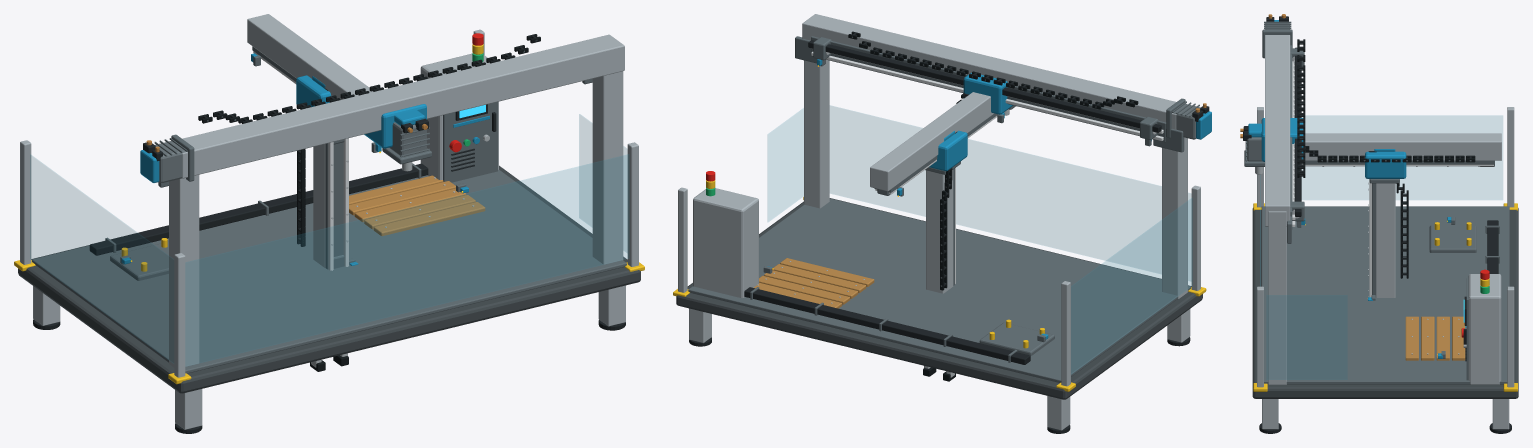
The model's file is palletizer-3axis-v2.glb.
3 renders of one model, left to right at view 1: azimuth 30°, elevation 25°; view 2: azimuth 150°, elevation 25°; view 3: azimuth 270°, elevation 25°, orthographic. The views are drawn at different scales.
Parts seen in each view (by area): view 1: Machine_Bed, Rear_Safety_Guard, X_Beam_Body, Left_Safety_Guard, Machine_Base, Column_5.0_Body, Column_-5.0_Body, Y_Beam_Body, Cable_Tray, Cabinet_Door, Z_Rail_Mounting_Face, Right_Safety_Guard (+20 smaller); view 2: Machine_Bed, Rear_Safety_Guard, Left_Safety_Guard, Machine_Base, X_Beam_Body, Cabinet, Y_Beam_Body, Column_-5.0_Body, Column_5.0_Body, Right_Safety_Guard, Cable_Tray, X_BallScrew_Cover (+18 smaller); view 3: Machine_Bed, Left_Safety_Guard, Right_Safety_Guard, Machine_Base, X_Beam_Body, Y_Beam_Body, Cabinet, Column_5.0_Body, Z_Mast_Body, Pick_Fixture, Y_CarriagePlate, Safety_Post_Body.002 (+21 smaller).
Part boxes in pixels (<box>): Machine_Bed: <box>32,169,626,373</box>; Rear_Safety_Guard: <box>185,154,629,366</box>; X_Beam_Body: <box>182,34,624,178</box>; Left_Safety_Guard: <box>30,155,173,363</box>; Machine_Base: <box>18,165,640,393</box>; Column_5.0_Body: <box>592,71,623,264</box>; Column_-5.0_Body: <box>169,175,199,367</box>; Y_Beam_Body: <box>247,14,373,99</box>; Cable_Tray: <box>89,163,428,255</box>; Cabinet_Door: <box>443,102,497,182</box>; Z_Rail_Mounting_Face: <box>325,142,343,269</box>; Right_Safety_Guard: <box>579,114,627,252</box>; Machine_Bed: <box>688,198,1190,382</box>; Rear_Safety_Guard: <box>830,105,1191,280</box>; Left_Safety_Guard: <box>1071,198,1192,374</box>; Machine_Base: <box>676,198,1202,399</box>; X_Beam_Body: <box>802,14,1176,129</box>; Cabinet: <box>693,188,758,298</box>; Y_Beam_Body: <box>870,92,994,191</box>; Column_-5.0_Body: <box>1162,137,1187,298</box>; Column_5.0_Body: <box>804,59,829,208</box>; Right_Safety_Guard: <box>767,108,803,221</box>; Cable_Tray: <box>744,287,1030,364</box>; X_BallScrew_Cover: <box>808,40,1161,132</box>; Machine_Bed: <box>1261,206,1509,384</box>; Left_Safety_Guard: <box>1302,115,1502,199</box>; Right_Safety_Guard: <box>1266,295,1347,379</box>; Machine_Base: <box>1252,208,1518,398</box>; X_Beam_Body: <box>1265,35,1290,226</box>; Y_Beam_Body: <box>1305,133,1501,160</box>; Cabinet: <box>1468,274,1501,384</box>; Column_5.0_Body: <box>1268,211,1286,384</box>; Z_Mast_Body: <box>1376,183,1395,297</box>; Pick_Fixture: <box>1429,225,1476,252</box>; Y_CarriagePlate: <box>1365,151,1406,178</box>; Safety_Post_Body.002: <box>1507,286,1514,387</box>.
Size of the model in its own units: 11.42 by 7.44 by 7.01.
